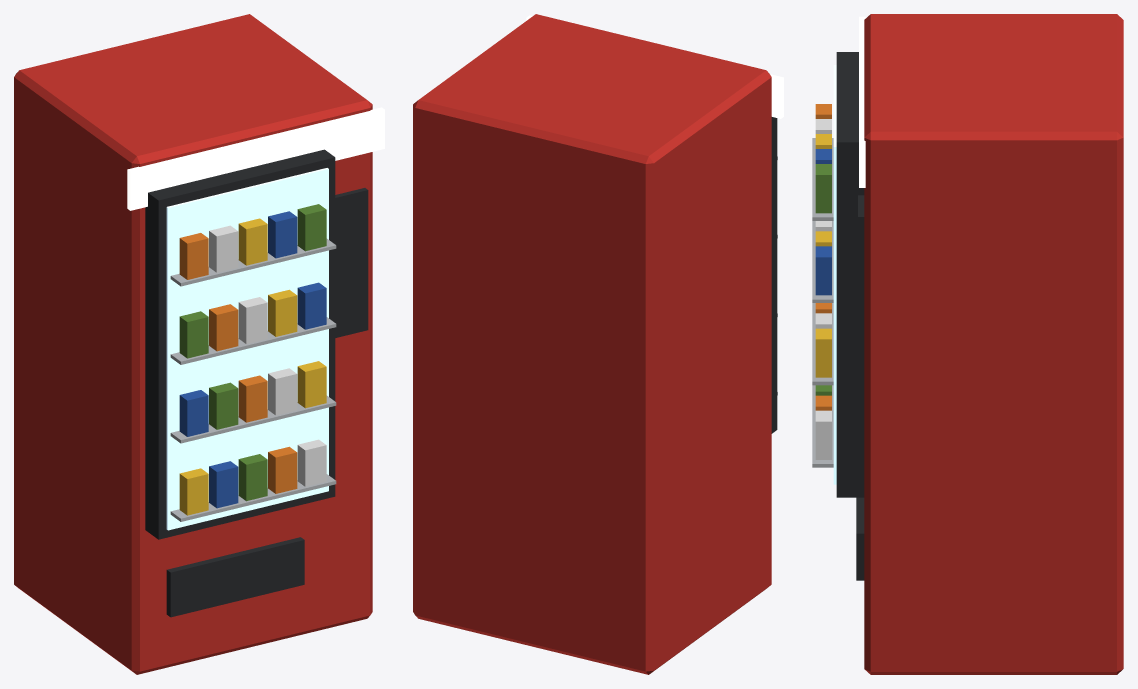
Rendered from vending_machine.glb.
3 renders of one model, left to right at view 1: azimuth 30°, elevation 25°; view 2: azimuth 150°, elevation 25°; view 3: azimuth 270°, elevation 25°, orthographic. The views are drawn at different scales.
Parts seen in each view (by area): view 1: VendingMachine; view 2: VendingMachine; view 3: VendingMachine.
Part boxes in pixels (<box>): VendingMachine: <box>14,14,384,674</box>; VendingMachine: <box>413,14,783,674</box>; VendingMachine: <box>812,14,1123,674</box>.
Size of what is drawn, in the model's own units: 0.95 by 1.85 by 0.96.
